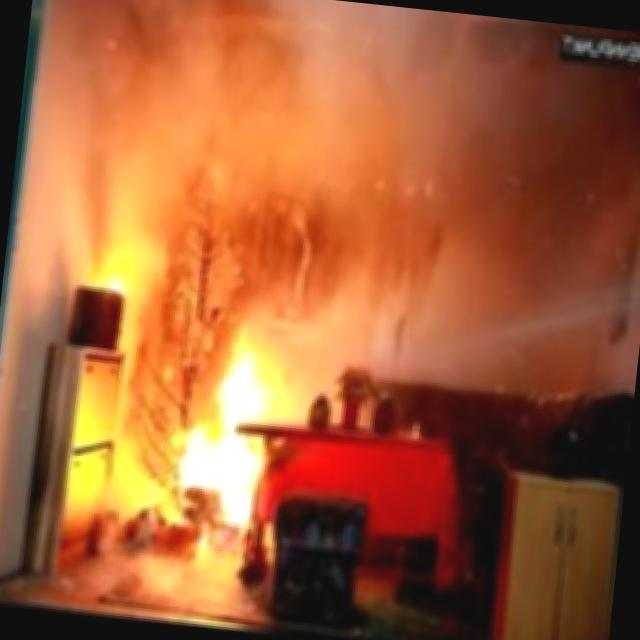fire: (151, 290, 314, 528)
smoke: (237, 12, 550, 279)
